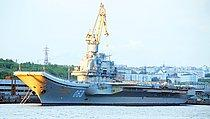MIL_Ship: (11, 51, 189, 107)
